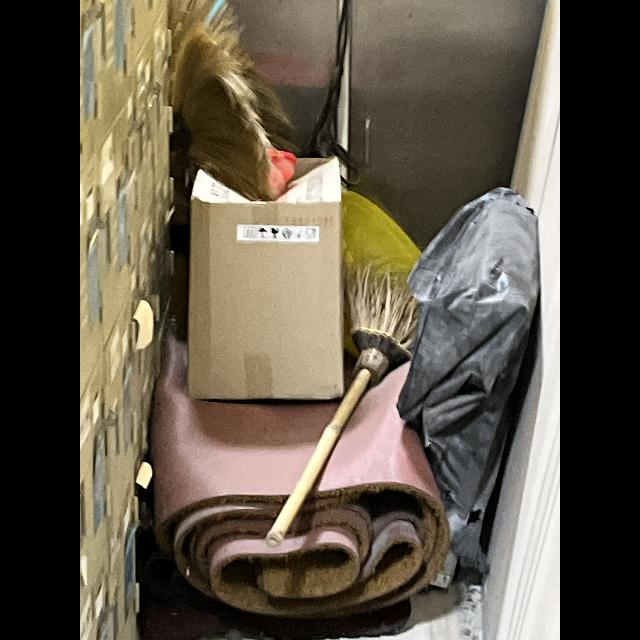cardboard_box: (179, 136, 355, 414)
